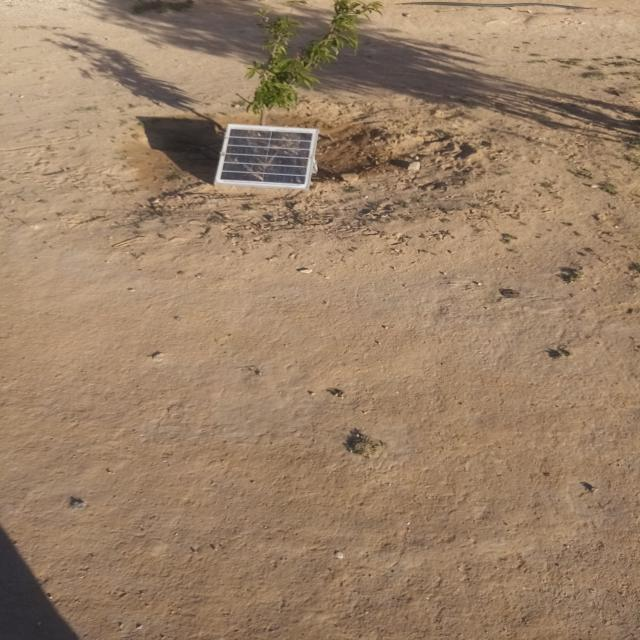faulty: (215, 124, 318, 188)
